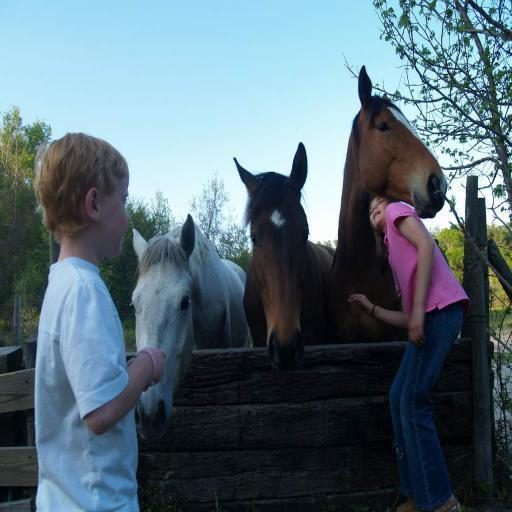horse: (328, 65, 448, 344), (128, 210, 250, 443), (234, 140, 338, 368)
